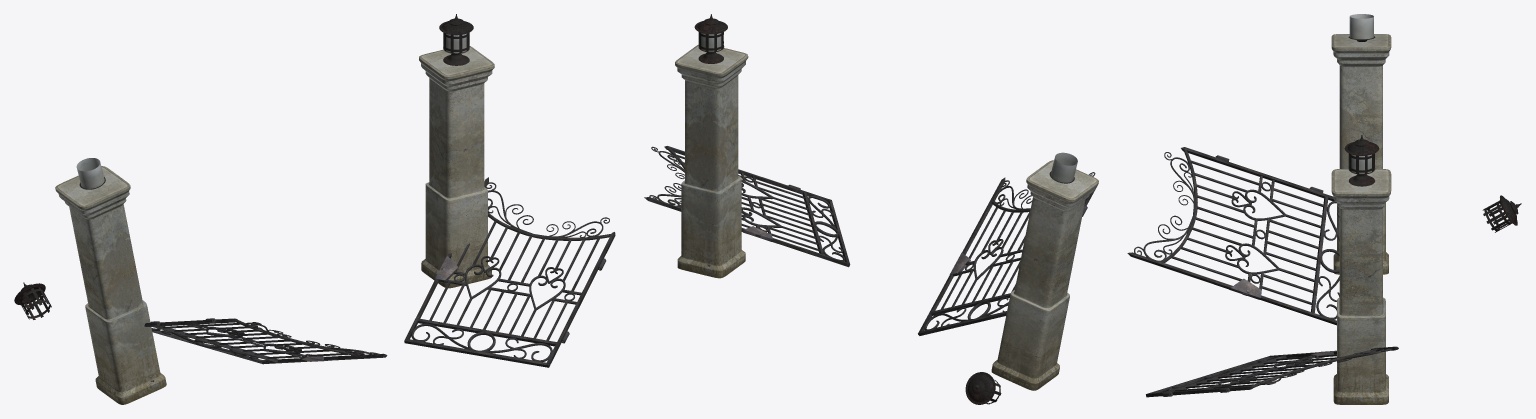
The model's file is Gate.fbx.
The picture shows the model from 3 angles, left to right: view 1: azimuth 30°, elevation 25°; view 2: azimuth 150°, elevation 25°; view 3: azimuth 270°, elevation 25°; orthographic projection. The views are drawn at different scales.
Parts seen in each view (by area): view 1: pillar_right.001, pillar_left.001, gate_left, gate_right, Gate_Light:lightupper, lightupper, Gate_Light:lightlower, lightlower; view 2: pillar_left.001, pillar_right.001, gate_left, gate_right, Gate_Light:lightupper, lightupper, Gate_Light:lightlower, lightlower; view 3: pillar_left.001, gate_right, pillar_right.001, gate_left, Gate_Light:lightupper, lightupper, Gate_Light:lightlower, lightlower.
Part boxes in pixels (x1,y1,x2,y2): pillar_right.001: (55, 166, 166, 404); pillar_left.001: (419, 46, 494, 288); gate_left: (404, 177, 615, 367); gate_right: (144, 318, 387, 364); Gate_Light:lightupper: (14, 282, 51, 319); lightupper: (439, 14, 473, 53); Gate_Light:lightlower: (76, 158, 105, 189); lightlower: (443, 33, 469, 65); pillar_left.001: (675, 44, 748, 278); pillar_right.001: (991, 160, 1098, 390); gate_left: (644, 146, 850, 267); gate_right: (918, 172, 1097, 335); Gate_Light:lightupper: (965, 372, 1001, 404); lightupper: (694, 14, 727, 51); Gate_Light:lightlower: (1049, 152, 1077, 183); lightlower: (698, 33, 724, 63); pillar_left.001: (1331, 169, 1391, 404); gate_right: (1127, 147, 1339, 325); pillar_right.001: (1331, 34, 1391, 274); gate_left: (1146, 346, 1398, 397); Gate_Light:lightupper: (1482, 195, 1521, 232); lightupper: (1344, 135, 1379, 174); Gate_Light:lightlower: (1348, 14, 1375, 41); lightlower: (1348, 154, 1375, 186).
Size of the model in its own units: 413 by 236 by 285.
